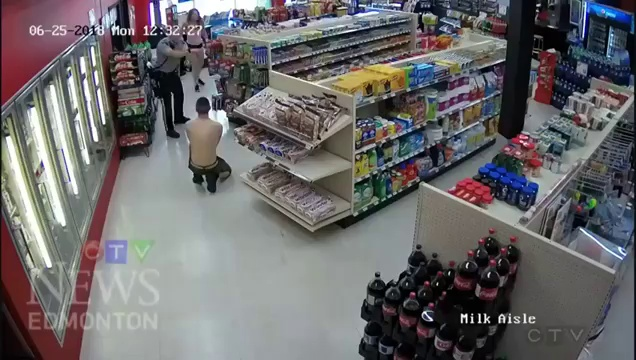face: (189, 8, 201, 21)
